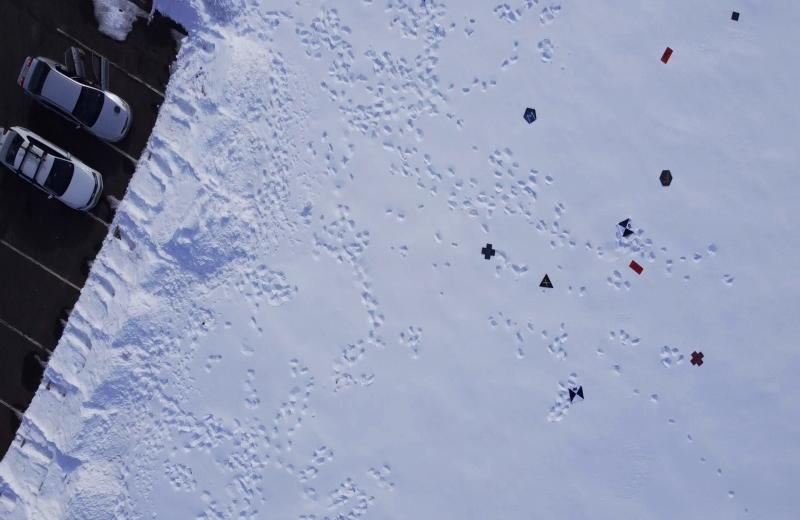Cross: (480, 242, 497, 260), (690, 350, 706, 368)
Hexagon: (658, 169, 674, 188)
Pentagon: (521, 106, 538, 127)
Rectangle: (628, 258, 644, 278), (659, 47, 675, 64)
Square: (728, 10, 742, 24)
Triangle: (538, 272, 554, 292)
